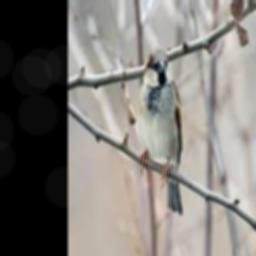Sparrow: (139, 47, 183, 214)
